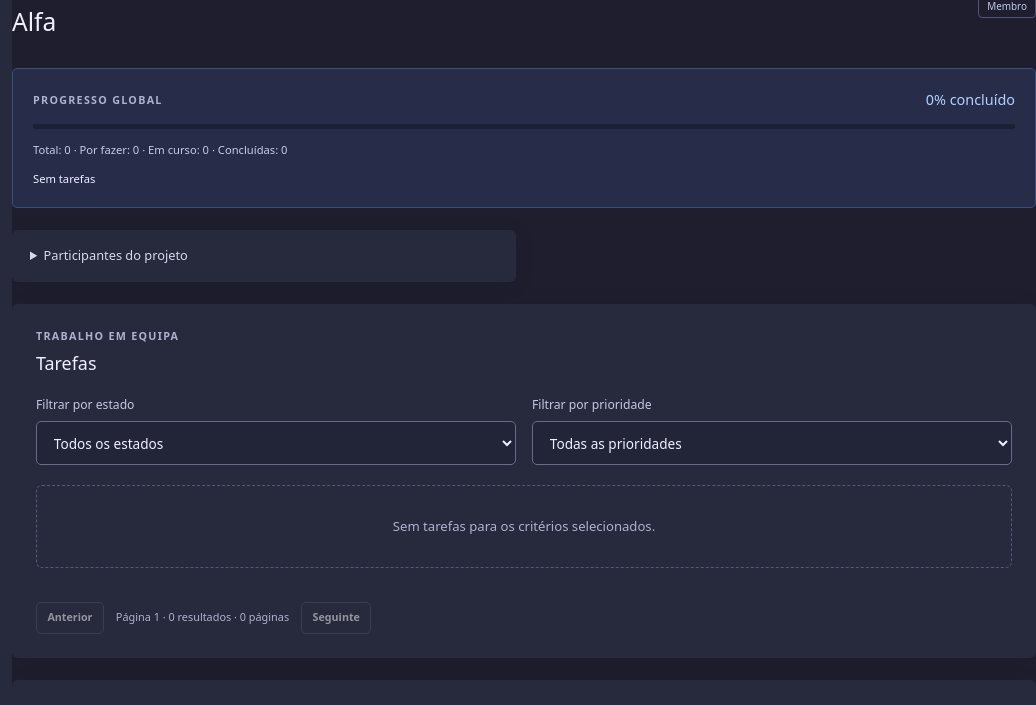
Criação de tarefas › mantém o filtro ativo quando a nova tarefa não lhe corresponde
The image size is (1036, 705).
Expected: the heading "Alfa" is shown, [12,5,56,38]
Select "Concluída" in the dropdown labelled "Filtrar por estado": (276, 443) [36,421,516,465]
(page scrolled)
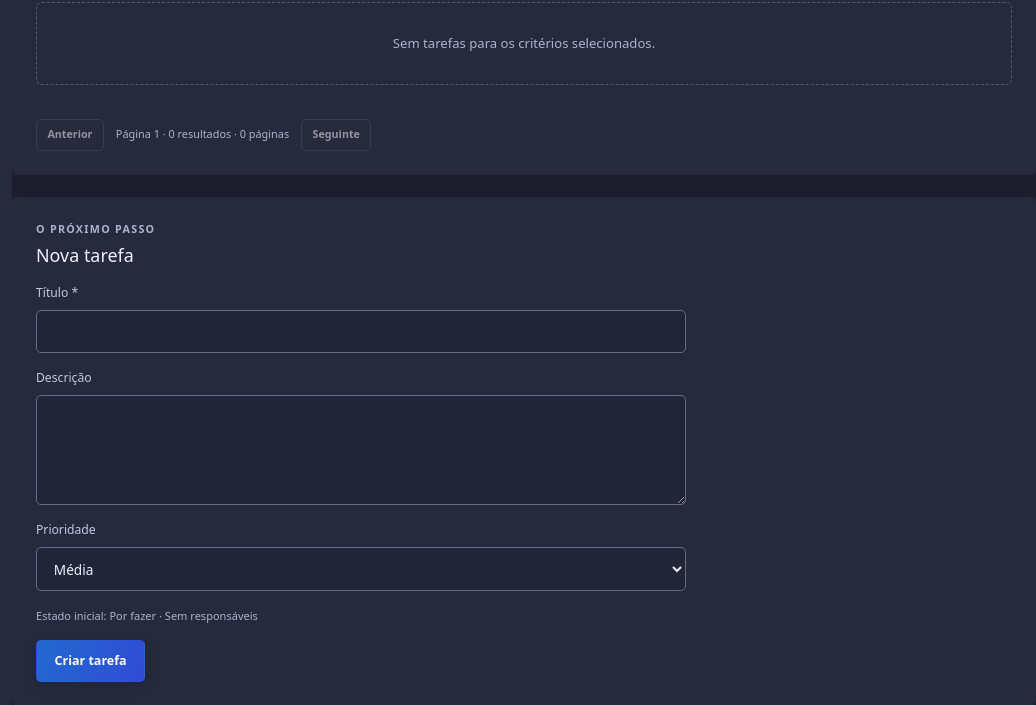
In the field labelled "Título *": (361, 332) [36,310,686,353], type "Nova tarefa real"
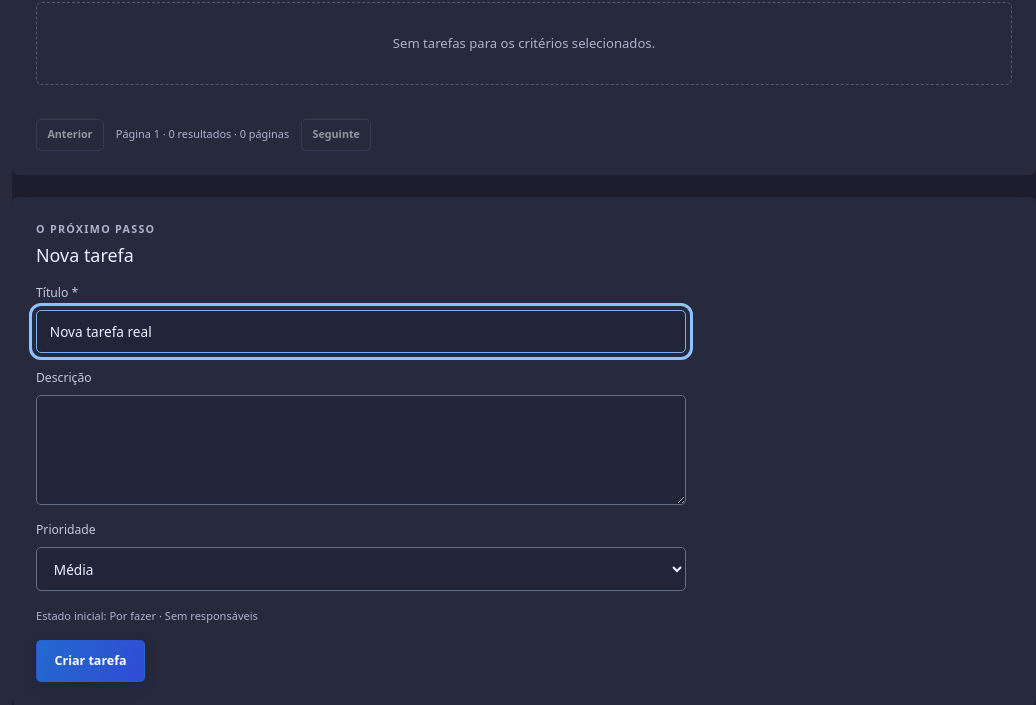
Click the button "Criar tarefa": (91, 661) [36,640,145,682]
(page scrolled)
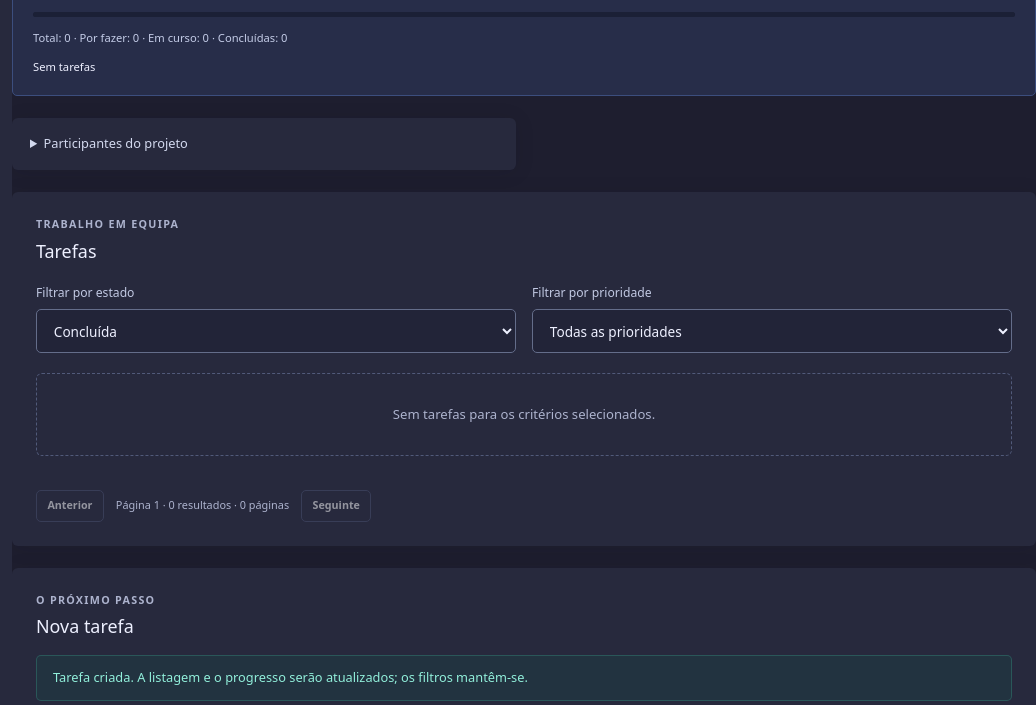
Expected: the link "Nova tarefa real" is not shown
Result: the dropdown labelled "Filtrar por estado" shows "Concluída" at [36,309,516,353]
Result: the text "Tarefa criada" is shown at [53,668,528,686]
